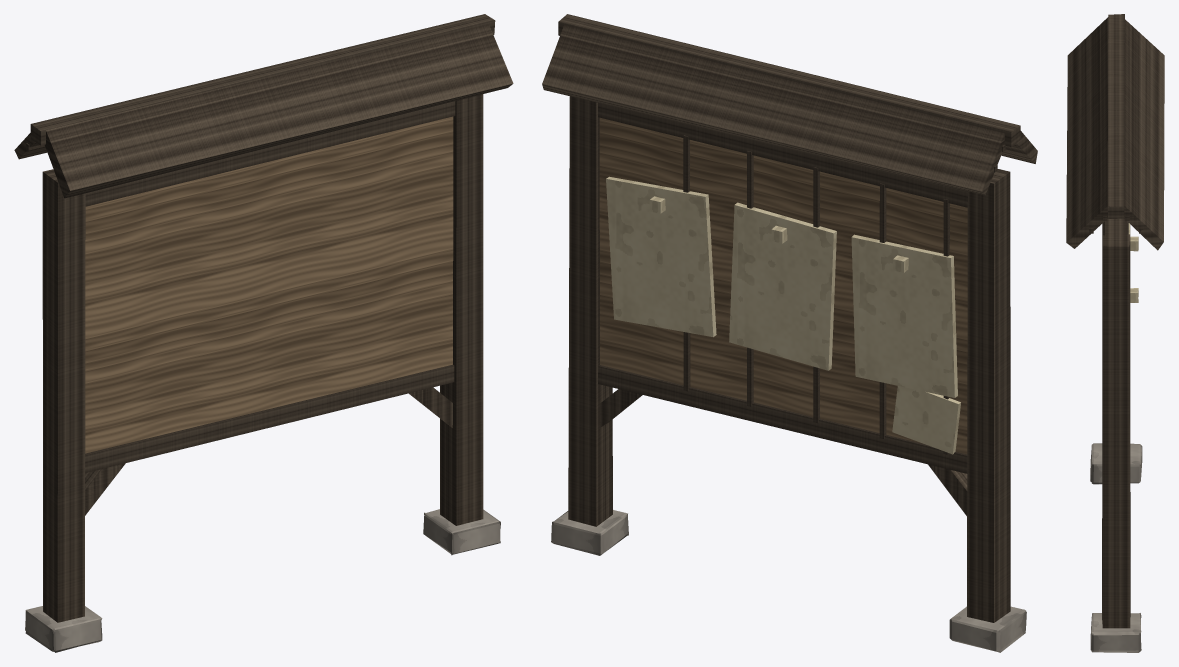
Rendered from bounty_board.glb.
The picture shows the model from 3 angles, left to right: view 1: azimuth 30°, elevation 25°; view 2: azimuth 150°, elevation 25°; view 3: azimuth 270°, elevation 25°; orthographic projection. The views are drawn at different scales.
Visible parts, largest first — view 1: BountyBoard; view 2: BountyBoard, Notice1, Notice2, Notice3; view 3: BountyBoard.
Part boxes in pixels (x1=…): BountyBoard: x1=14, y1=14, x2=513, y2=652; BountyBoard: x1=542, y1=14, x2=1037, y2=652; Notice1: x1=606, y1=176, x2=716, y2=337; Notice2: x1=729, y1=202, x2=836, y2=370; Notice3: x1=851, y1=234, x2=957, y2=397; BountyBoard: x1=1066, y1=14, x2=1164, y2=652.
Bounding box in the file's own units: 2.3 × 2.5 × 0.4966.
4 materials, 4 textured.
